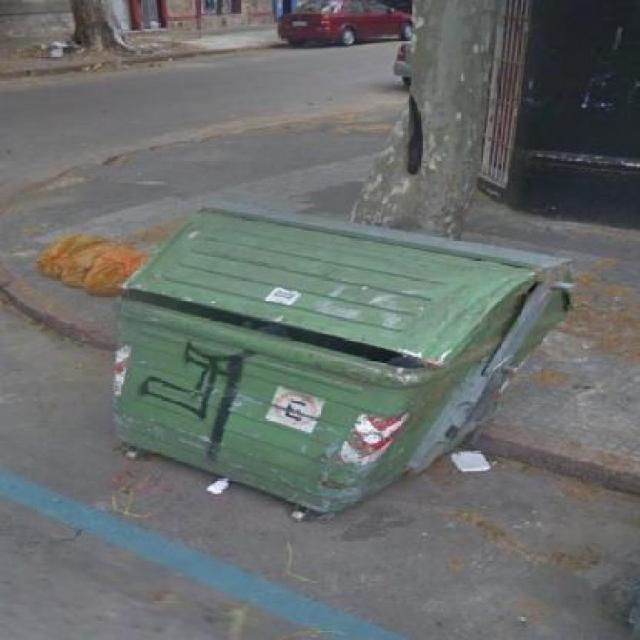garbage: (17, 216, 146, 323), (446, 448, 527, 502), (185, 459, 238, 502), (35, 37, 96, 72)
